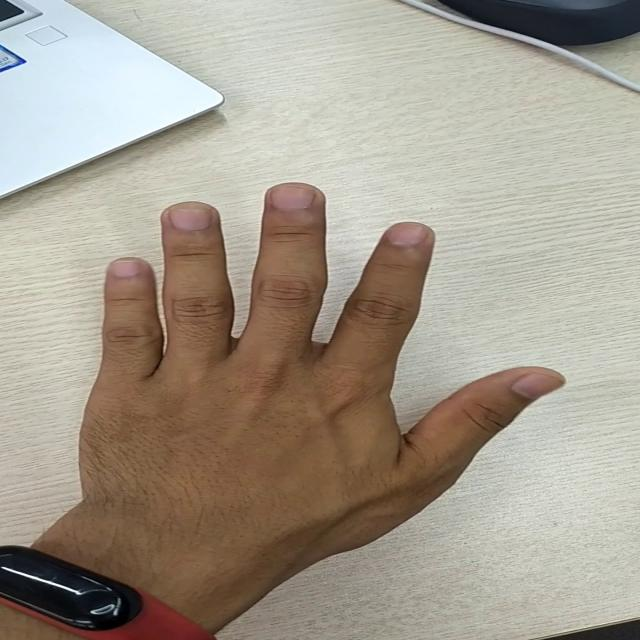hand: (84, 185, 569, 528)
